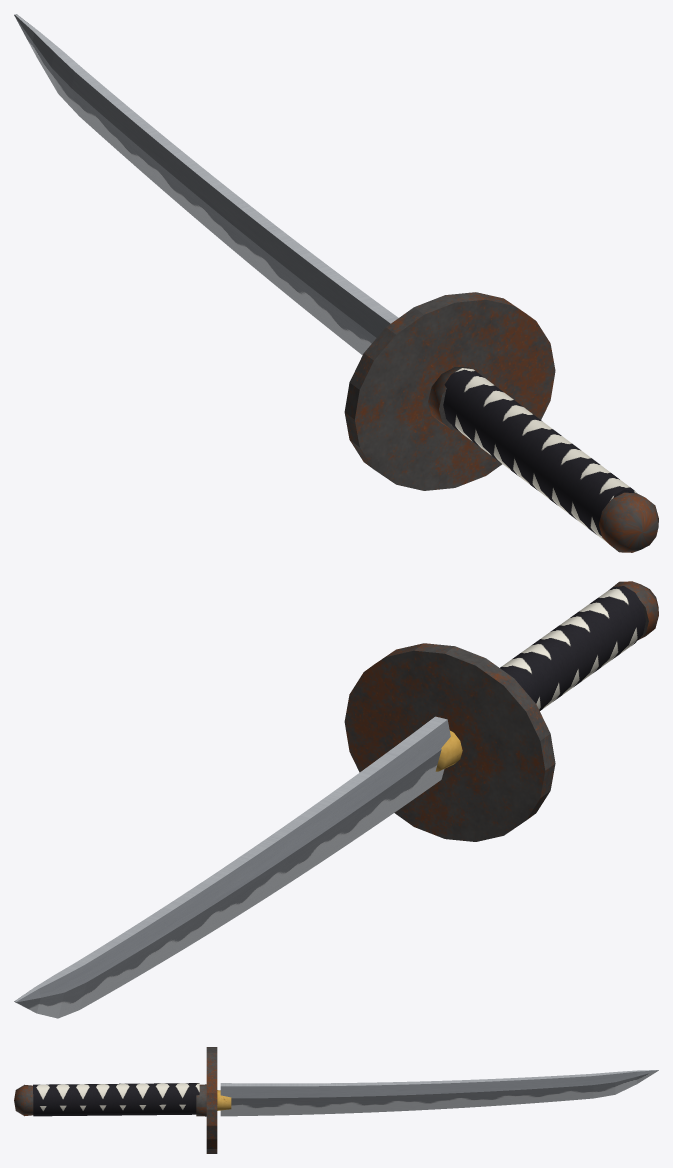
The model's file is HO_Weapon_IronKatana.fbx.
3 renders of one model, top to bottom at view 1: azimuth 30°, elevation 25°; view 2: azimuth 150°, elevation 25°; view 3: azimuth 270°, elevation 25°, orthographic. The views are drawn at different scales.
Parts seen in each view (by area): view 1: HO_Weapon_IronKatana__Iron_Wrought, HO_Weapon_IronKatana__Steel_Blade, HO_Weapon_IronKatana__Tsuka_Wrap; view 2: HO_Weapon_IronKatana__Iron_Wrought, HO_Weapon_IronKatana__Steel_Blade, HO_Weapon_IronKatana__Tsuka_Wrap; view 3: HO_Weapon_IronKatana__Steel_Blade, HO_Weapon_IronKatana__Tsuka_Wrap, HO_Weapon_IronKatana__Iron_Wrought, HO_Weapon_IronKatana__Gold_Leaf.
Boxes of the visible parts, x1=… form: HO_Weapon_IronKatana__Iron_Wrought: x1=344, y1=292, x2=658, y2=552; HO_Weapon_IronKatana__Steel_Blade: x1=14, y1=14, x2=398, y2=354; HO_Weapon_IronKatana__Tsuka_Wrap: x1=443, y1=368, x2=637, y2=542; HO_Weapon_IronKatana__Iron_Wrought: x1=344, y1=581, x2=658, y2=841; HO_Weapon_IronKatana__Steel_Blade: x1=14, y1=716, x2=450, y2=1018; HO_Weapon_IronKatana__Tsuka_Wrap: x1=500, y1=586, x2=645, y2=710; HO_Weapon_IronKatana__Steel_Blade: x1=220, y1=1070, x2=658, y2=1116; HO_Weapon_IronKatana__Tsuka_Wrap: x1=33, y1=1083, x2=199, y2=1116; HO_Weapon_IronKatana__Iron_Wrought: x1=14, y1=1047, x2=217, y2=1153; HO_Weapon_IronKatana__Gold_Leaf: x1=217, y1=1090, x2=231, y2=1110.
Size of the model in its own units: 0.68 by 0.6 by 3.68.
